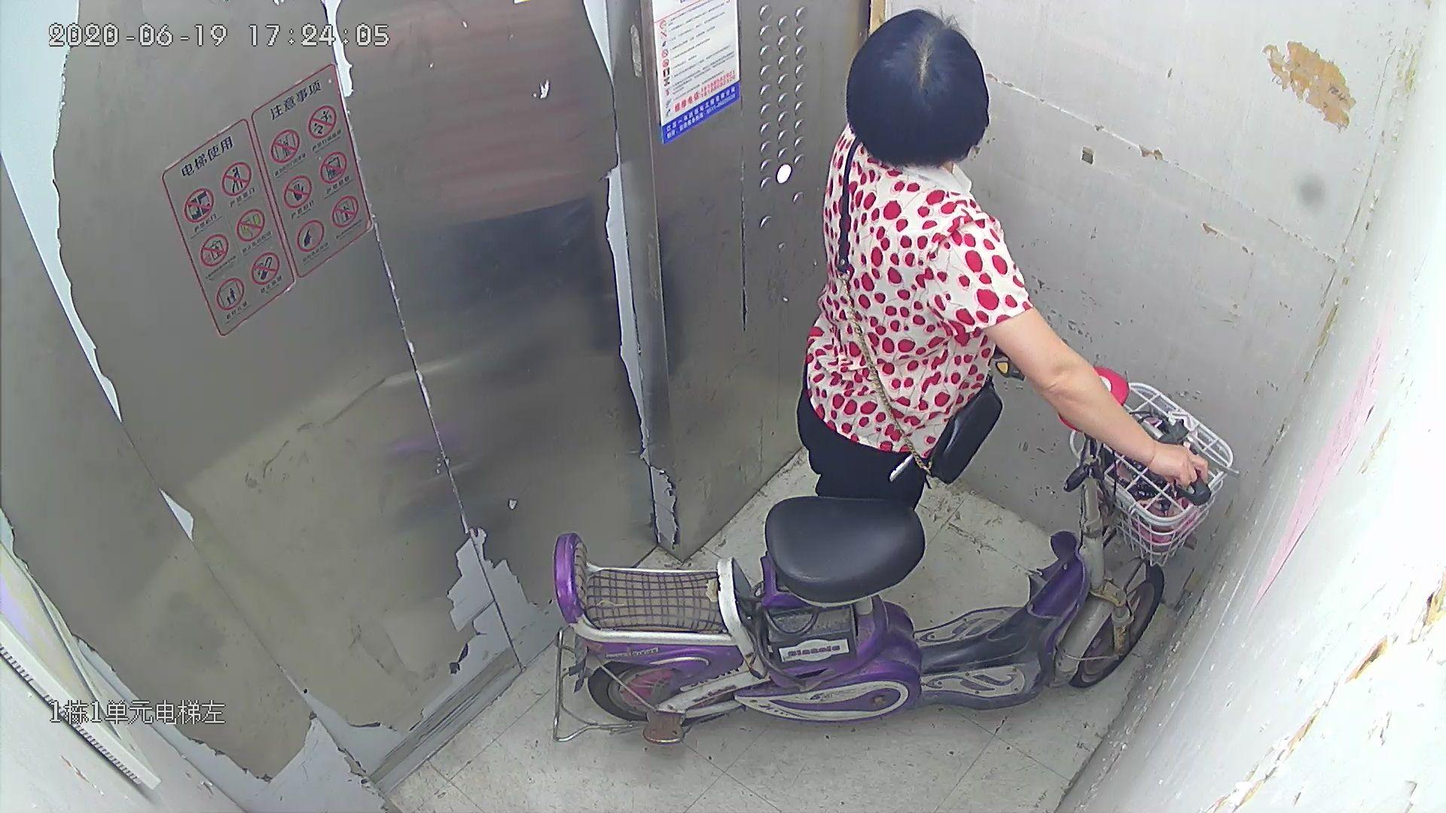Electric-bicycle: (548, 375, 1231, 740)
